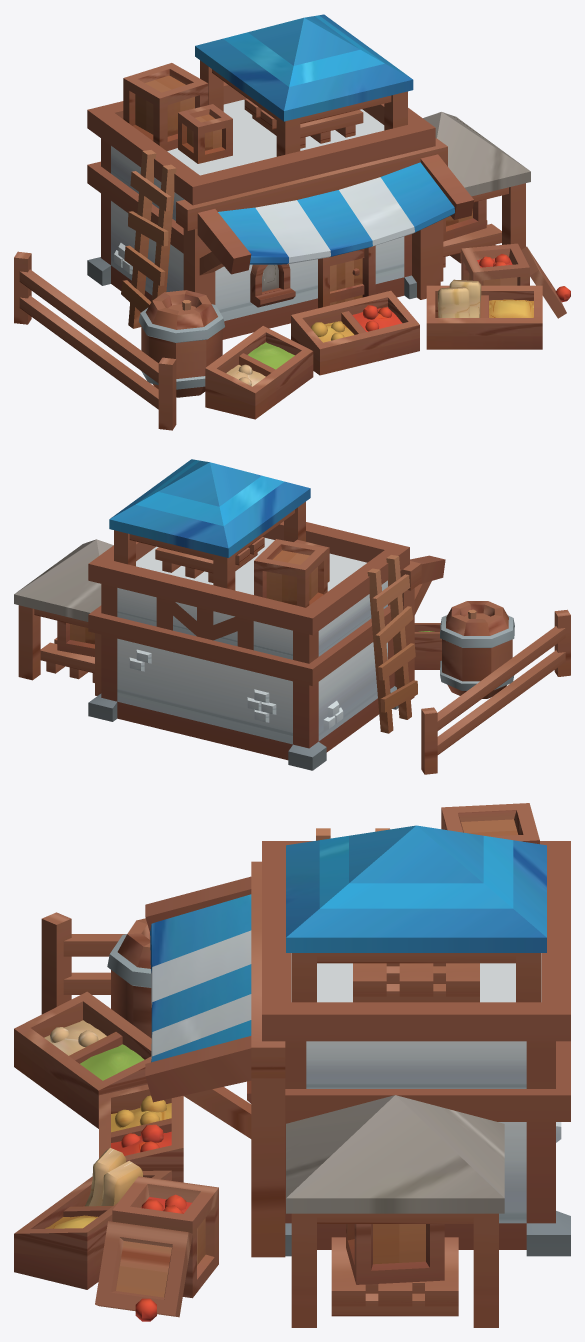
The model's file is hex_market.glb.
3 views of the same model, one above another, from view 1: azimuth 30°, elevation 25°; view 2: azimuth 150°, elevation 25°; view 3: azimuth 270°, elevation 25° (orthographic). The views are drawn at different scales.
Visible parts, largest first — view 1: building_market_blue; view 2: building_market_blue; view 3: building_market_blue.
Boxes of the visible parts, box(x1,y1,x2,y2) form: building_market_blue: box(14, 14, 570, 430); building_market_blue: box(14, 459, 570, 774); building_market_blue: box(14, 803, 570, 1327).
Bounding box in the file's own units: 1.8 × 0.9817 × 1.32.
1 material, 1 textured.
